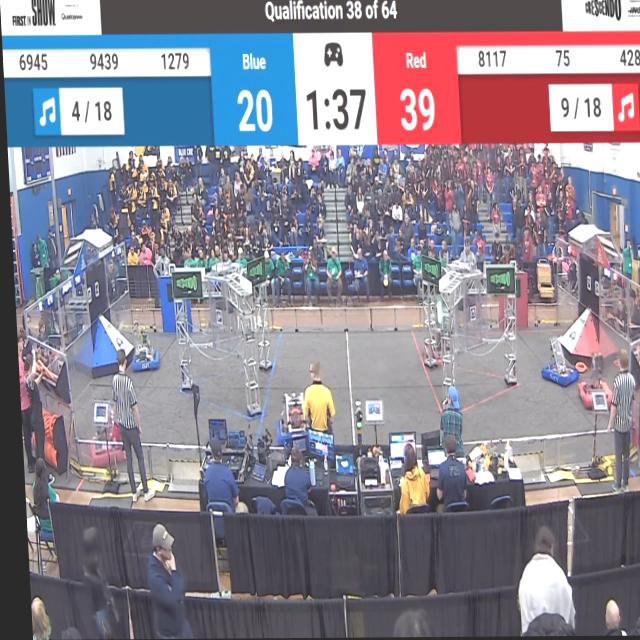Robot: (81, 396, 119, 463), (271, 385, 311, 447), (571, 350, 608, 416), (535, 332, 574, 390), (123, 323, 156, 377)
